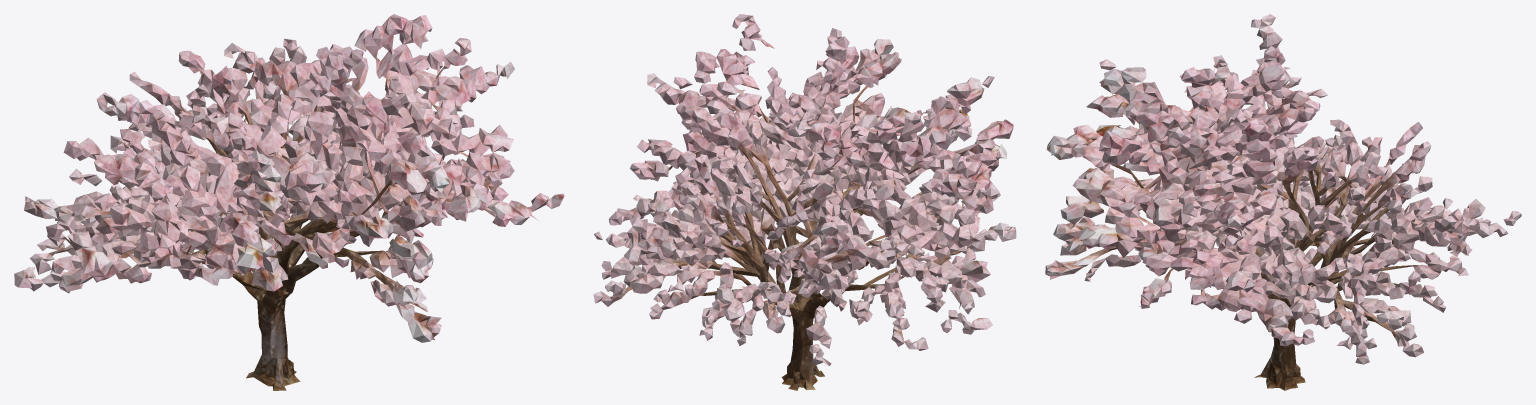
The model's file is source.glb.
3 renders of one model, left to right at view 1: azimuth 30°, elevation 25°; view 2: azimuth 150°, elevation 25°; view 3: azimuth 270°, elevation 25°, orthographic. The views are drawn at different scales.
Visible parts, largest first — view 1: model; view 2: model; view 3: model.
Part boxes in pixels (x1=…): model: x1=14, y1=14, x2=564, y2=390; model: x1=593, y1=14, x2=1016, y2=390; model: x1=1045, y1=14, x2=1521, y2=390.
Size of the model in its own units: 1.88 by 1.4 by 1.91.
1 material, 1 textured.
